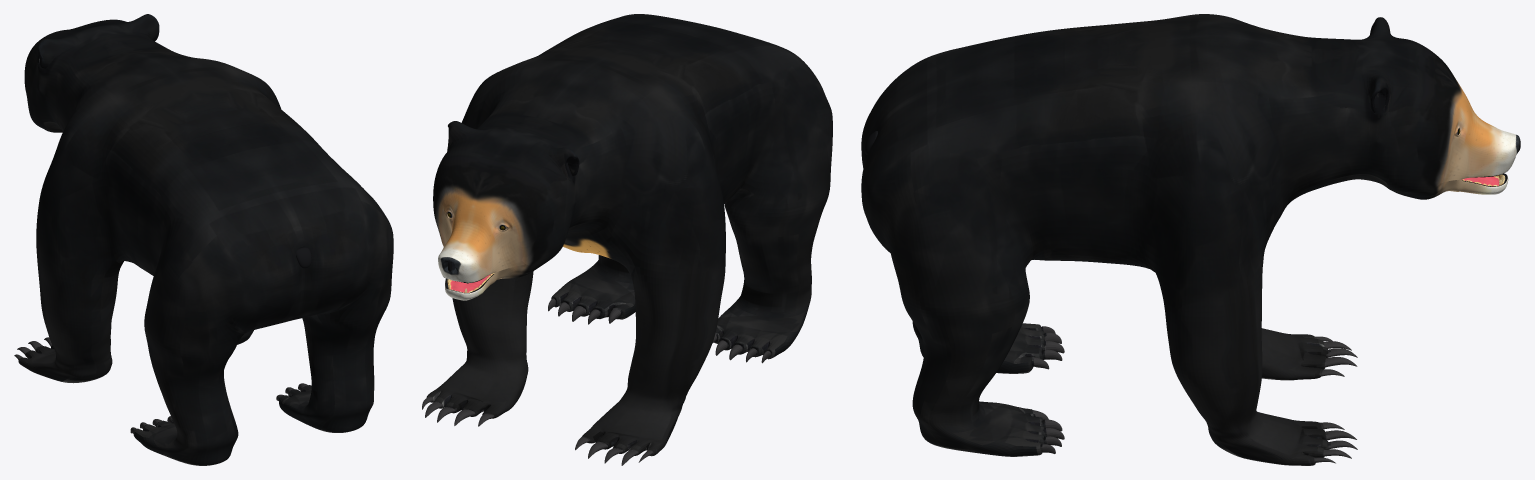
Rendered from Skripsi_Beruang Madu(no fur).fbx.
3 renders of one model, left to right at view 1: azimuth 30°, elevation 25°; view 2: azimuth 150°, elevation 25°; view 3: azimuth 270°, elevation 25°, orthographic. The views are drawn at different scales.
Visible parts, largest first — view 1: Bear; view 2: Bear; view 3: Bear.
Boxes of the visible parts, left/top/right/bottom form: Bear: left=14, top=14, right=393, bottom=465; Bear: left=422, top=14, right=832, bottom=465; Bear: left=861, top=14, right=1520, bottom=465.
Bounding box in the file's own units: 510 × 607 × 973.
4 materials, 3 textured.
